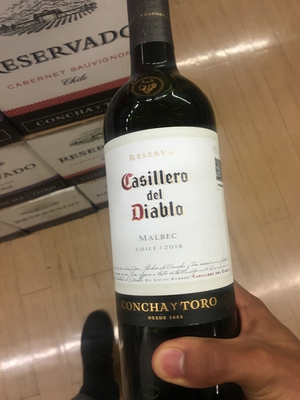casillero del diablo malbec: (94, 4, 251, 399)
